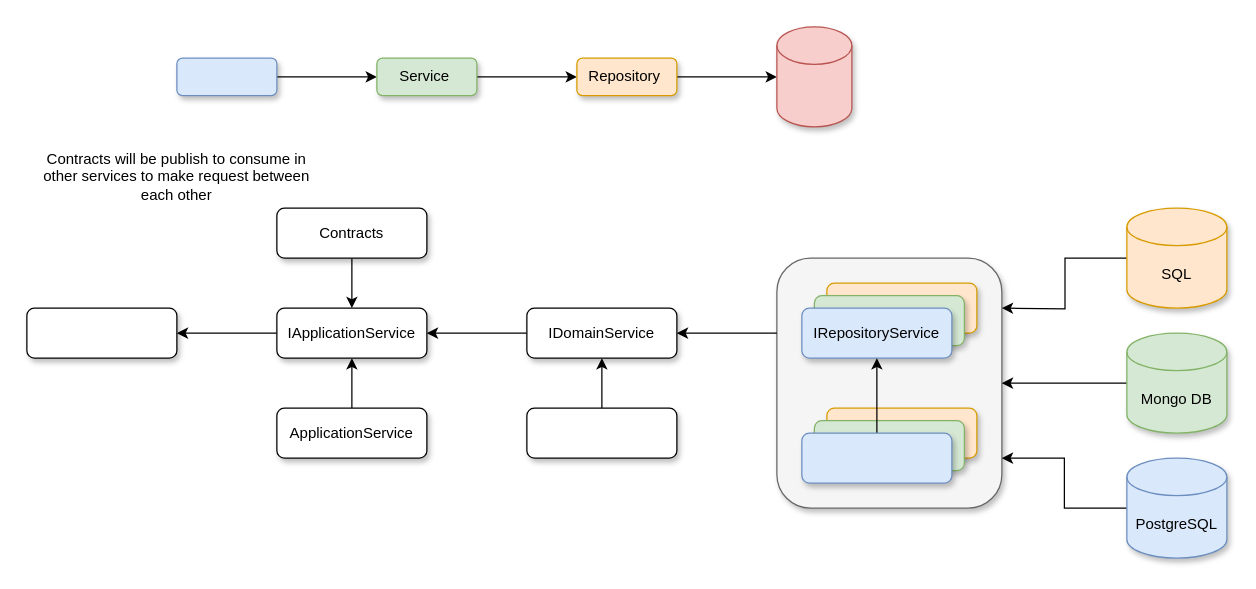
The diagram is 1256 pixels wide and 589 high, and some of its shapes have lost their labels. Here are the shapes that lost their labels. From the top down, the centre of each, then its label:
point 227,78: Controller
point 815,78: DB
point 102,334: Host
point 602,434: DomainService
point 877,459: RepositoryService
